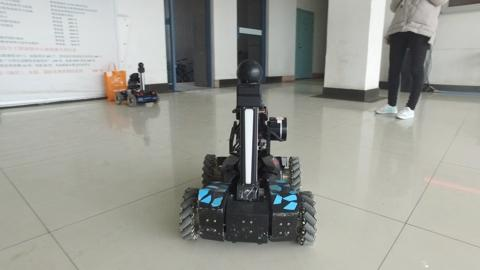bag: (101, 60, 128, 104)
chariot: (176, 60, 318, 248), (114, 61, 160, 108)
